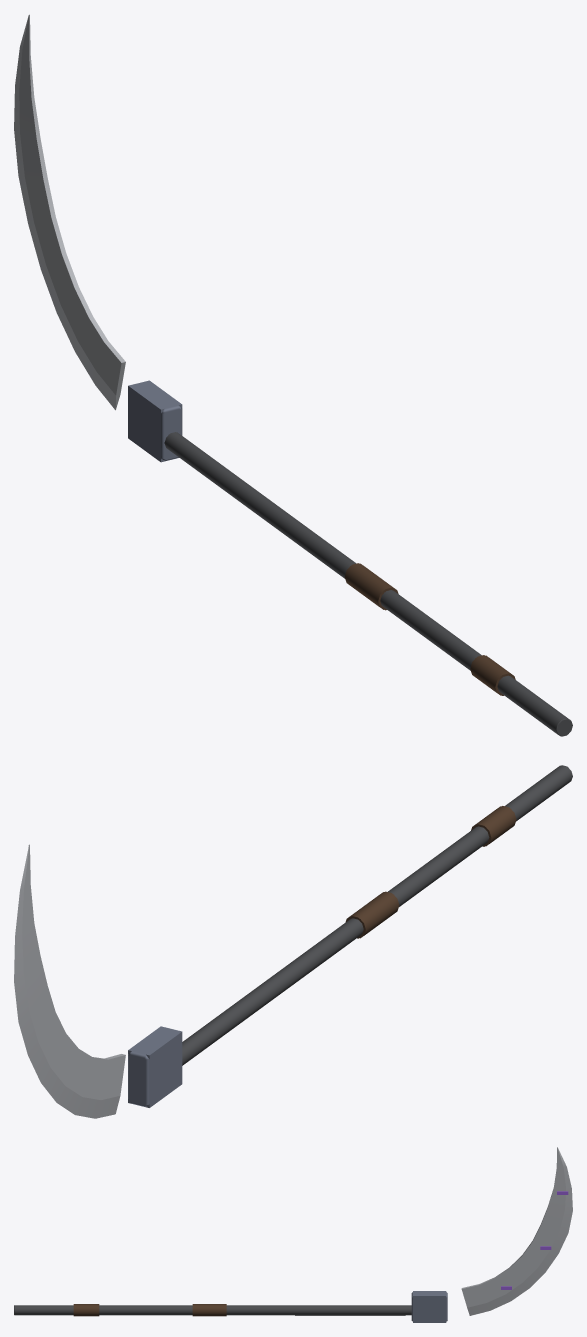
The model's file is m_scythe.glb.
3 views of the same model, one above another, from view 1: azimuth 30°, elevation 25°; view 2: azimuth 150°, elevation 25°; view 3: azimuth 270°, elevation 25° (orthographic). The views are drawn at different scales.
Parts seen in each view (by area): view 1: L0, L1; view 2: L0, L1; view 3: L0, L1.
Part boxes in pixels (bbox=[...]): L0: bbox=[14, 14, 572, 736]; L1: bbox=[128, 380, 568, 736]; L0: bbox=[14, 765, 572, 1118]; L1: bbox=[128, 765, 568, 1107]; L0: bbox=[14, 1147, 572, 1321]; L1: bbox=[14, 1291, 446, 1322].
Size of the model in its own units: 0.034 by 0.5175 by 1.51.
